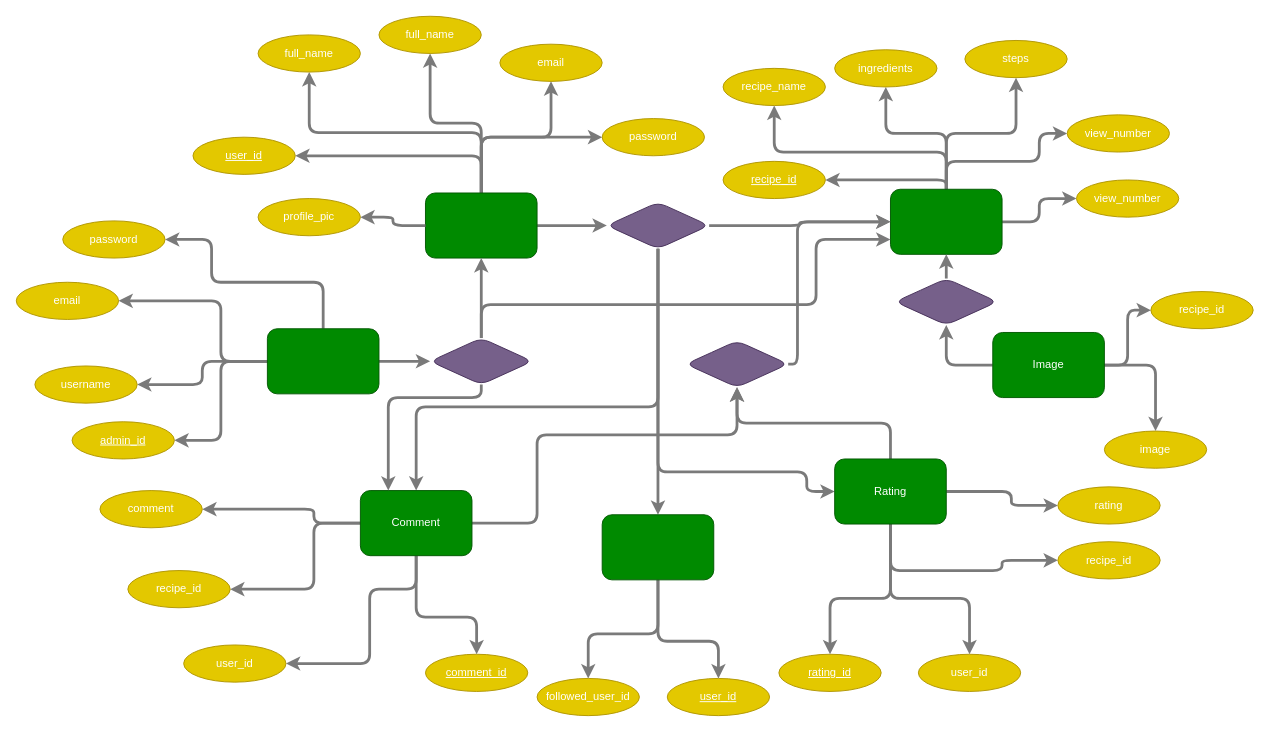
The diagram is 1269 pixels wide and 732 high, and some of its shapes have lost their labels. Here are the shapes that lost their labels. From the top down, the box of each, then its label:
(425, 192, 537, 258): User
(606, 201, 709, 249): makes
(890, 188, 1002, 254): Recipe
(894, 278, 997, 325): is owned by
(266, 328, 379, 394): Admin
(429, 337, 532, 385): manages
(685, 340, 788, 387): on a
(601, 514, 714, 580): Following
